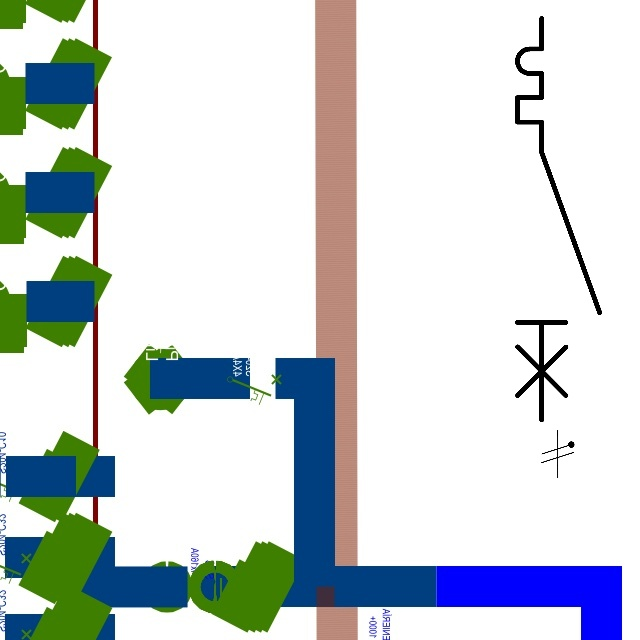interruptor_termomagnetico: (507, 8, 610, 430)
